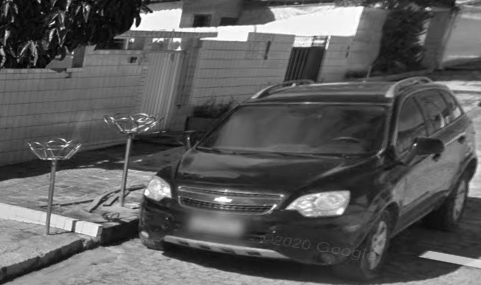car: (136, 66, 477, 282)
